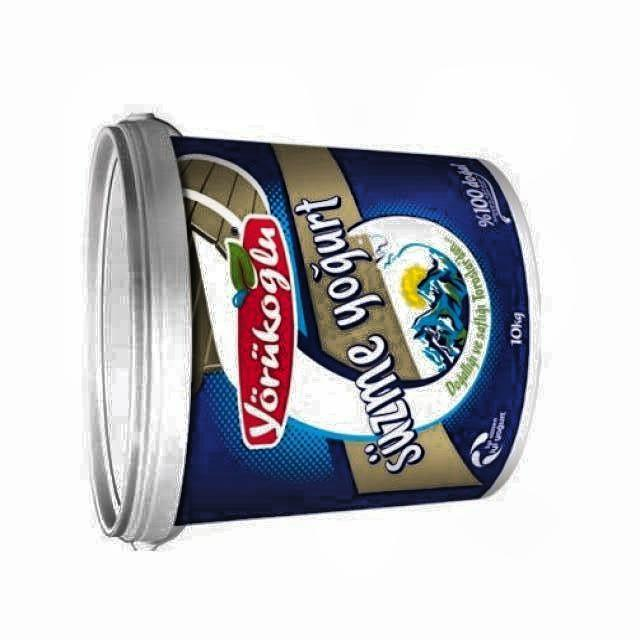plastic: (88, 115, 538, 544)
